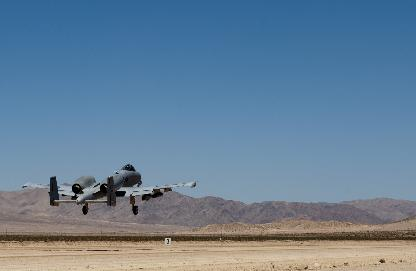A10: (21, 163, 197, 213)
